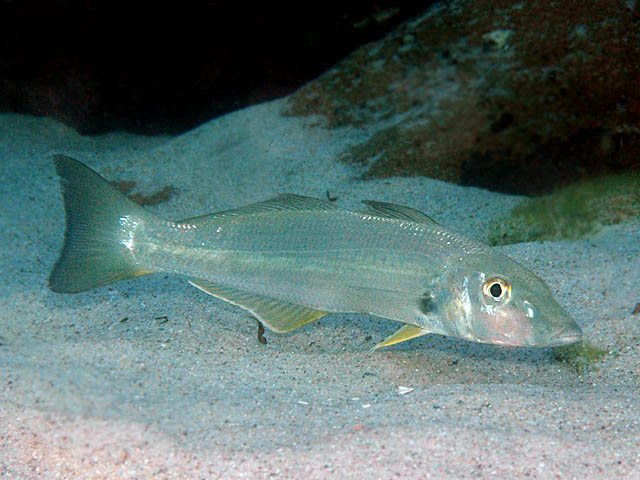kiss: (48, 148, 592, 360)
